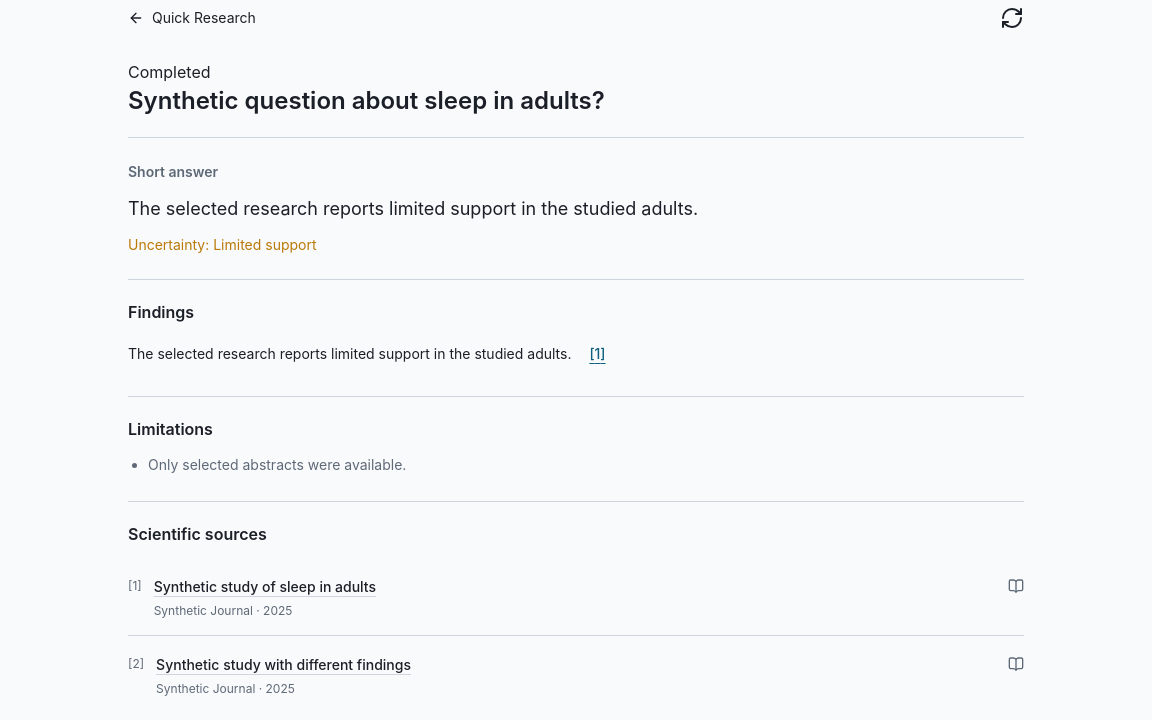
Test: Quick result presentation › shows the saved answer, exact citations and source metadata, with details closed
This screenshot has width=1152, height=720.
Expected: the heading "Synthetic question about sleep in adults?" is shown, [128,86,605,115]
Expected: the text "The selected research reports limited support in the studied adults." is shown 2 times, [128,198,698,219]; [128,345,572,362]
Click the button named "View source 1 and supporting excerpt" at (598, 354), box [580,336,616,372]
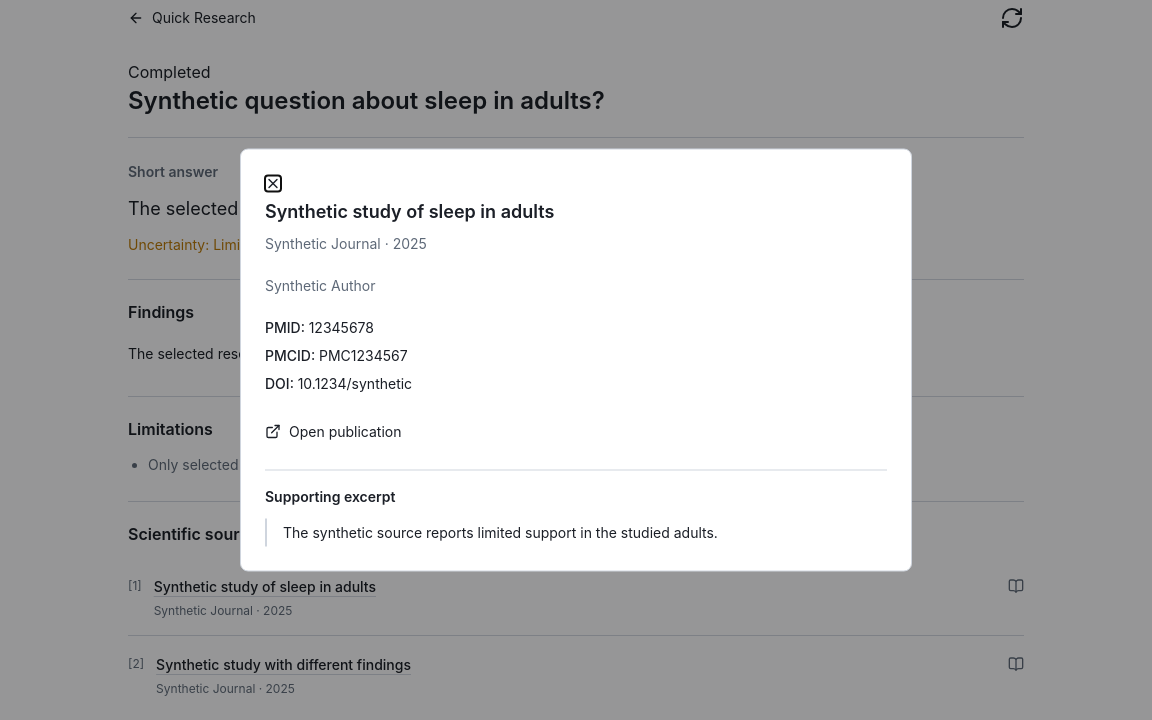
Now the text "The synthetic source reports limited support in the studied adults." is shown, box [265,518,887,546]
Now the text "Synthetic Author" is shown, box [265,276,376,294]
Now the text "PMC1234567" is shown, box [319,346,408,364]
